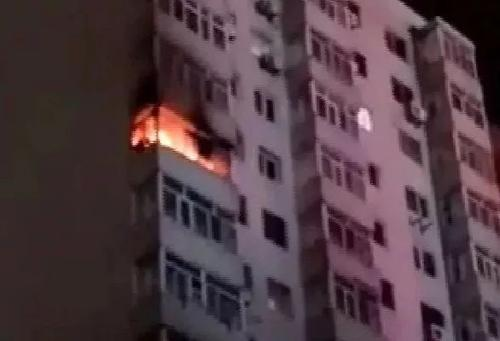fire: (126, 101, 214, 165)
smoke: (6, 16, 106, 292)
